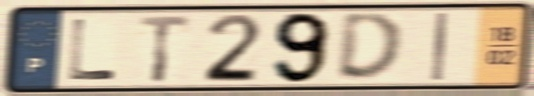2: (204, 12, 264, 85)
9: (270, 10, 335, 86)
D: (333, 10, 407, 84)
I: (429, 11, 451, 83)
L: (66, 17, 119, 83)
T: (136, 14, 193, 85)
